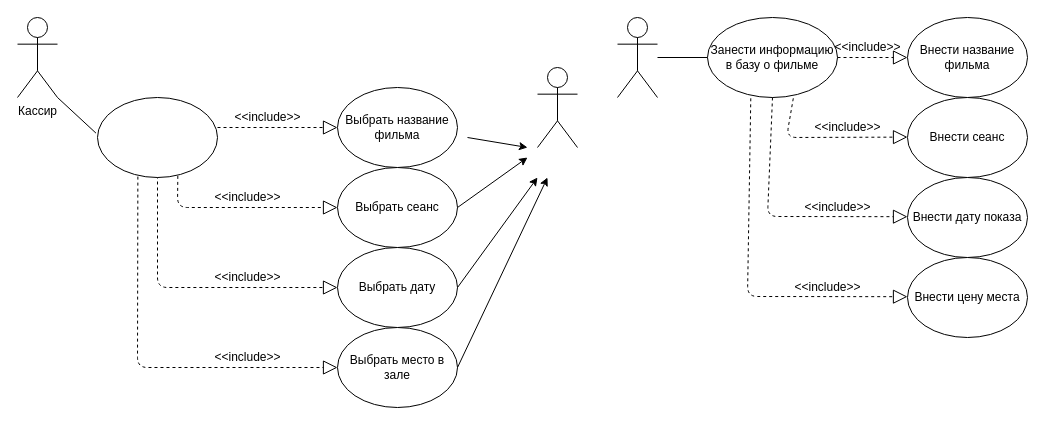
The diagram is 1045 pixels wide and 425 high, and some of its shapes have lost their labels. Each missing label, with the centre of its shape:
Администратор: pixel 637 57
Оформить билет: pixel 157 137
Покупатель: pixel 557 107
